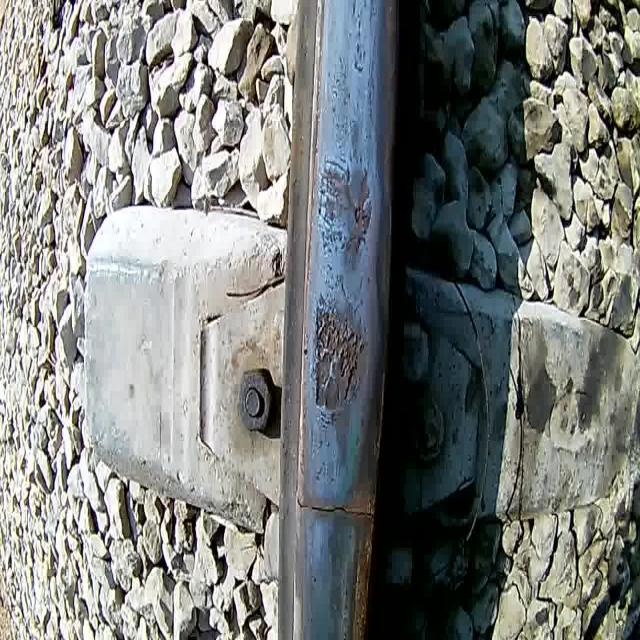Cracks: (313, 148, 355, 228), (323, 265, 367, 306), (314, 402, 348, 435)
Joint: (288, 483, 382, 534)
Spallings: (312, 306, 368, 411), (352, 165, 373, 270), (317, 220, 350, 274)
Squats: (308, 281, 373, 478), (311, 116, 379, 278), (321, 567, 350, 640), (324, 515, 357, 573)
